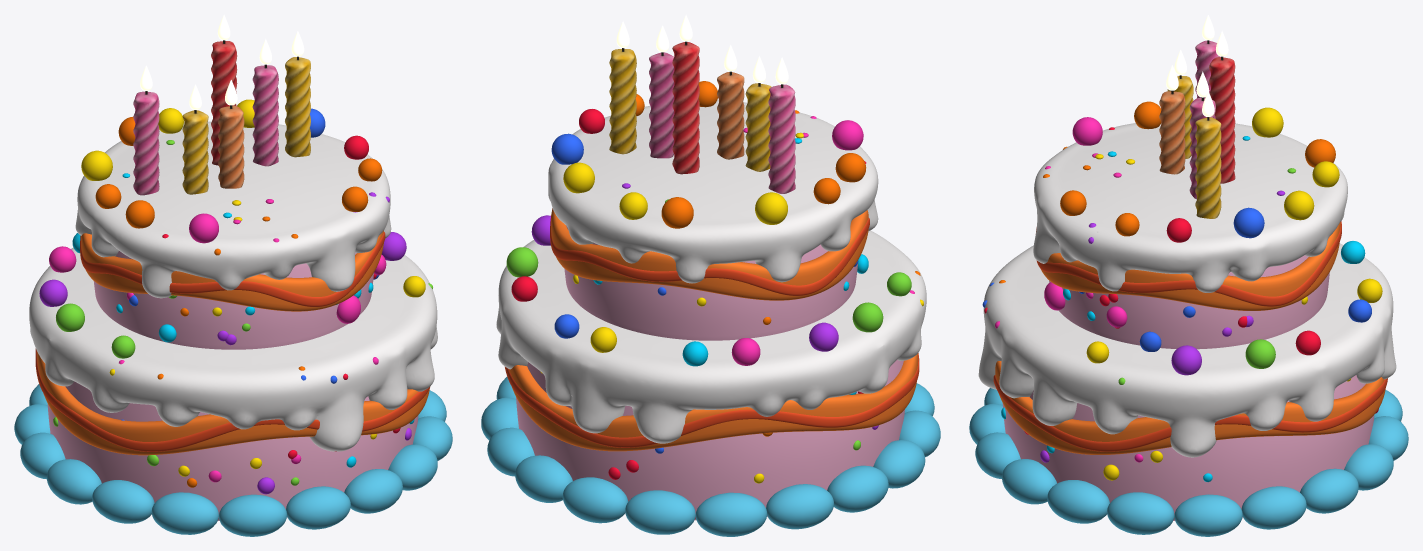
The model's file is cake.glb.
3 renders of one model, left to right at view 1: azimuth 30°, elevation 25°; view 2: azimuth 150°, elevation 25°; view 3: azimuth 270°, elevation 25°, orthographic. The views are drawn at different scales.
Visible parts, largest first — view 1: Lower_Icing, Upper_Icing, Pearl_Border, Lower_Cake_Body, Gumballs, Upper_Cake_Body, Lower_Orange_Ribbon, Upper_Orange_Ribbon, Lower_Red_Ribbon, Upper_Red_Ribbon, Sprinkle_Dots, Candle_Pink (+5 smaller); view 2: Lower_Icing, Upper_Icing, Pearl_Border, Lower_Cake_Body, Gumballs, Upper_Cake_Body, Lower_Orange_Ribbon, Upper_Orange_Ribbon, Lower_Red_Ribbon, Candle_Red, Upper_Red_Ribbon, Candle_Pink (+5 smaller); view 3: Lower_Icing, Upper_Icing, Pearl_Border, Lower_Cake_Body, Gumballs, Upper_Cake_Body, Lower_Orange_Ribbon, Upper_Orange_Ribbon, Lower_Red_Ribbon, Upper_Red_Ribbon, Candle_Yellow_2, Candle_Red (+5 smaller).
Boxes of the visible parts, x1=… form: Lower_Icing: x1=29, y1=247, x2=437, y2=451; Upper_Icing: x1=75, y1=121, x2=391, y2=298; Pearl_Border: x1=14, y1=384, x2=452, y2=536; Lower_Cake_Body: x1=47, y1=381, x2=418, y2=520; Gumballs: x1=39, y1=99, x2=425, y2=494; Upper_Cake_Body: x1=93, y1=251, x2=373, y2=349; Lower_Orange_Ribbon: x1=37, y1=351, x2=429, y2=455; Upper_Orange_Ribbon: x1=81, y1=230, x2=383, y2=311; Lower_Red_Ribbon: x1=35, y1=348, x2=429, y2=451; Upper_Red_Ribbon: x1=80, y1=232, x2=385, y2=306; Sprinkle_Dots: x1=53, y1=140, x2=432, y2=487; Candle_Pink: x1=133, y1=91, x2=159, y2=195; Lower_Icing: x1=496, y1=230, x2=926, y2=443; Upper_Icing: x1=548, y1=100, x2=878, y2=283; Pearl_Border: x1=481, y1=377, x2=940, y2=536; Lower_Cake_Body: x1=516, y1=359, x2=904, y2=520; Gumballs: x1=506, y1=81, x2=911, y2=366; Upper_Cake_Body: x1=564, y1=225, x2=857, y2=340; Lower_Orange_Ribbon: x1=509, y1=353, x2=918, y2=451; Upper_Orange_Ribbon: x1=551, y1=209, x2=868, y2=300; Lower_Red_Ribbon: x1=505, y1=353, x2=919, y2=447; Candle_Red: x1=672, y1=42, x2=699, y2=174; Upper_Red_Ribbon: x1=550, y1=208, x2=869, y2=295; Candle_Pink: x1=768, y1=84, x2=795, y2=193; Lower_Icing: x1=978, y1=243, x2=1396, y2=457; Upper_Icing: x1=1033, y1=123, x2=1347, y2=292; Pearl_Border: x1=969, y1=388, x2=1408, y2=536; Lower_Cake_Body: x1=1002, y1=375, x2=1374, y2=520; Gumballs: x1=1044, y1=101, x2=1382, y2=480; Upper_Cake_Body: x1=1049, y1=255, x2=1329, y2=349; Lower_Orange_Ribbon: x1=995, y1=361, x2=1385, y2=454; Upper_Orange_Ribbon: x1=1041, y1=222, x2=1340, y2=310; Lower_Red_Ribbon: x1=993, y1=375, x2=1387, y2=451; Upper_Red_Ribbon: x1=1036, y1=221, x2=1341, y2=306; Candle_Yellow_2: x1=1195, y1=117, x2=1221, y2=218; Candle_Red: x1=1209, y1=57, x2=1235, y2=183.
Bounding box in the file's own units: 1.13 × 1.21 × 1.13.
